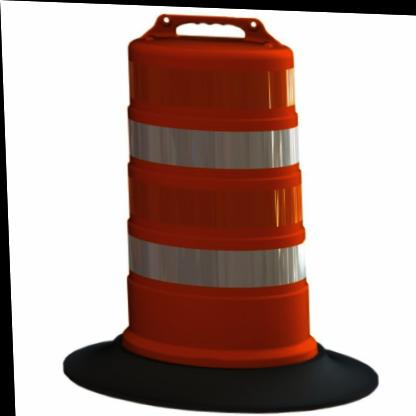obstacle: (110, 10, 325, 381)
